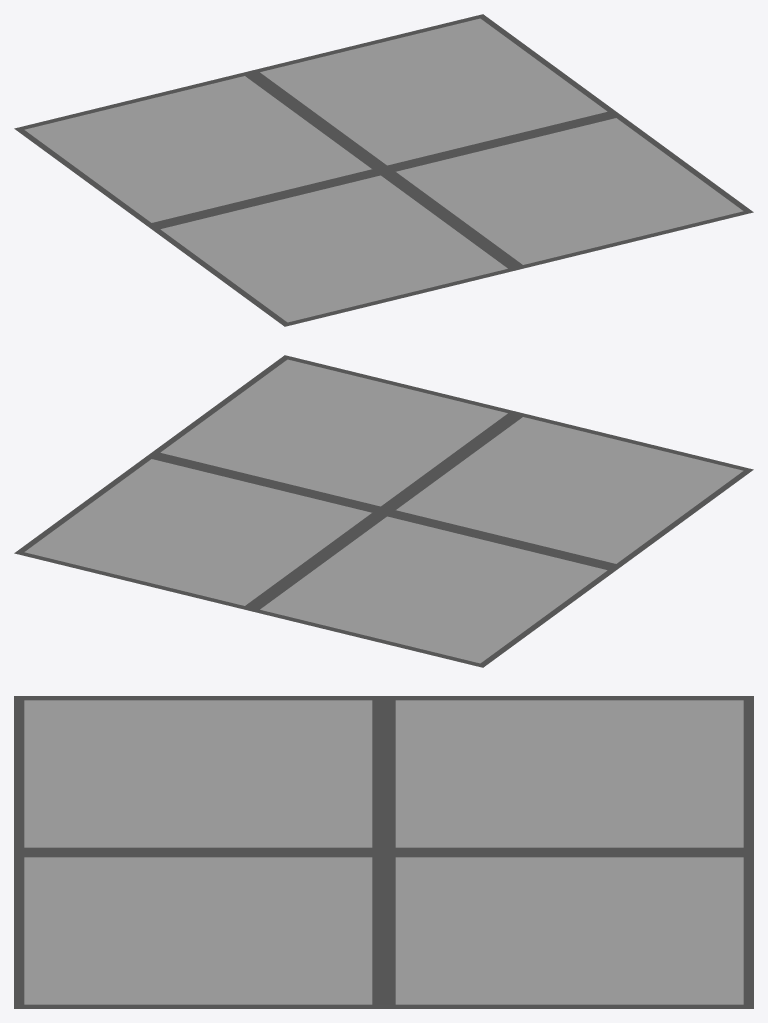
Rendered from SO_Floor_02.fbx.
3 views of the same model, one above another, from view 1: azimuth 30°, elevation 25°; view 2: azimuth 150°, elevation 25°; view 3: azimuth 270°, elevation 25° (orthographic). The views are drawn at different scales.
Visible parts, largest first — view 1: SO_Floor_02; view 2: SO_Floor_02; view 3: SO_Floor_02.
Boxes of the visible parts, bbox=[...] form: SO_Floor_02: bbox=[14, 14, 753, 326]; SO_Floor_02: bbox=[14, 355, 753, 667]; SO_Floor_02: bbox=[14, 696, 753, 1008].
Bounding box in the file's own units: 5 × 0 × 5.
